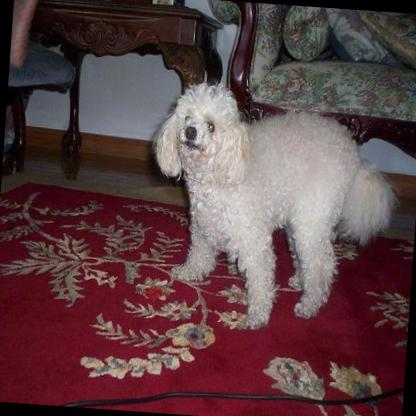toy_poodle: (140, 73, 398, 334)
